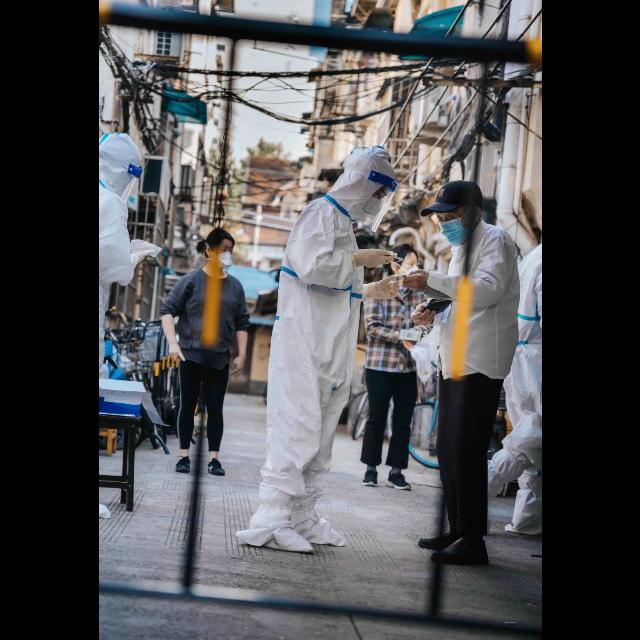masks: (439, 222, 467, 246), (370, 194, 386, 216), (219, 248, 231, 268)
